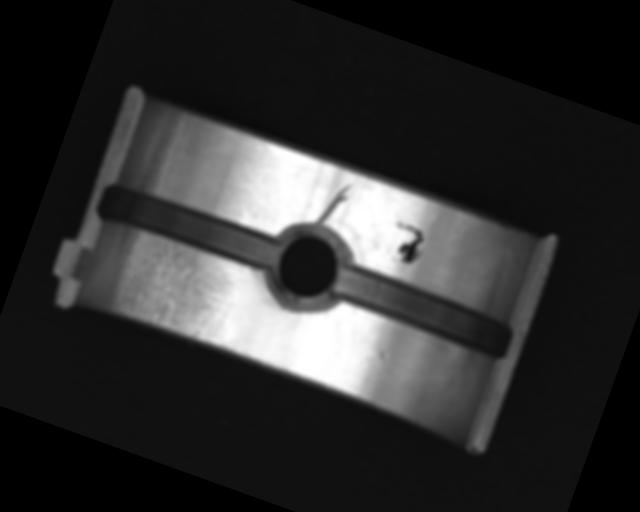blot: (383, 220, 430, 268)
bruise: (375, 346, 391, 361)
gap: (324, 256, 518, 366), (93, 176, 280, 278)
hole: (255, 214, 362, 323)
nick: (314, 175, 355, 233), (235, 203, 258, 229)
scratch: (100, 225, 252, 350)
